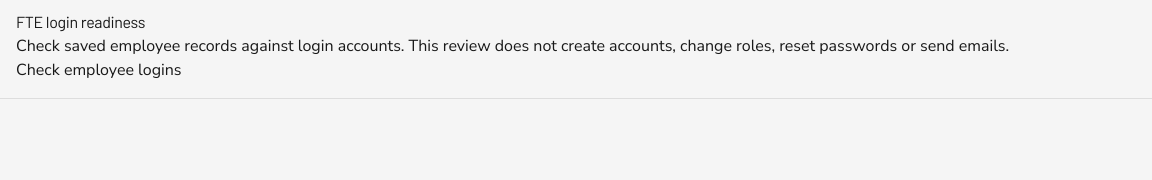
it_admin can identify missing accounts without creating accounts or changing roles
The image size is (1152, 180).
Step 1. Click the button "Check employee logins" → (99, 70), box [16,58,182,82]
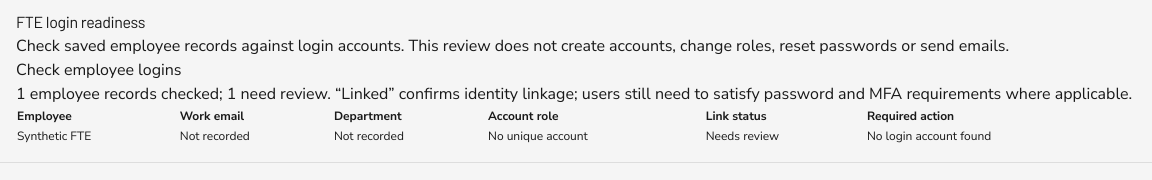
Now the text "No login account found" is shown, box [866,126,1136,146]
Now the text "1 employee records checked; 1 need review" is shown, box [16,82,1136,106]
